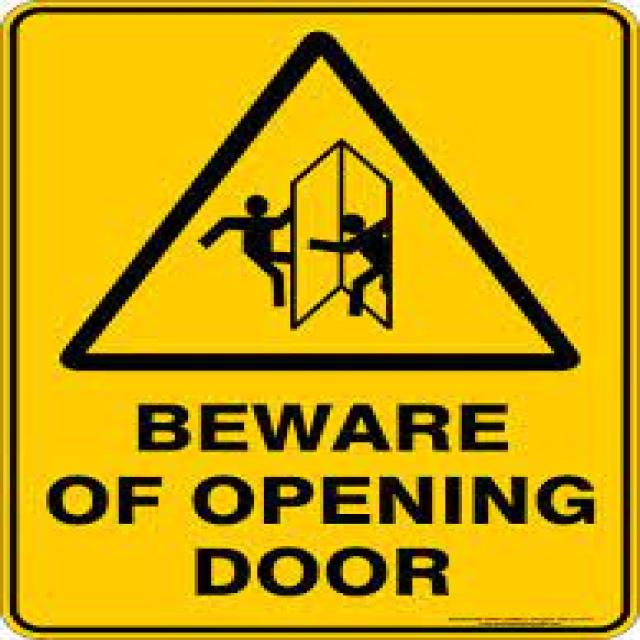opening-door-hazard: (42, 24, 613, 622)
